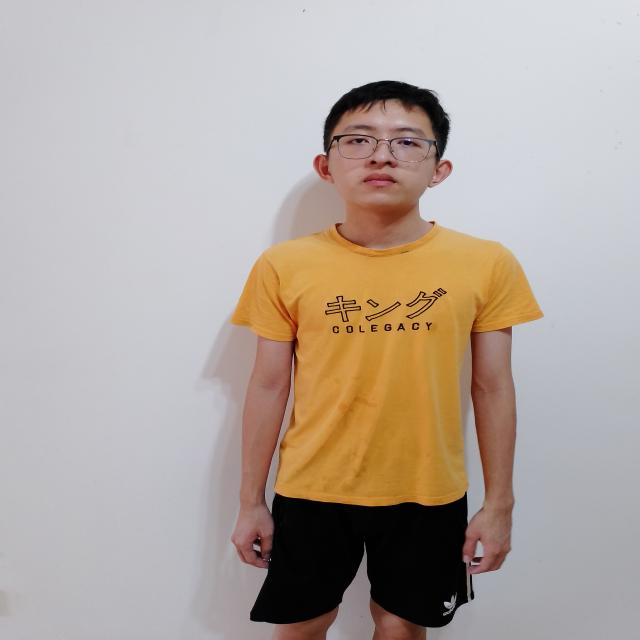person_without_labcoat: (231, 81, 542, 640)
